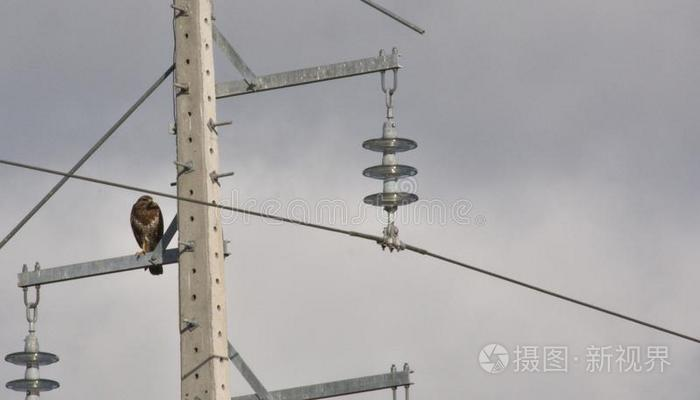insulator: (360, 135, 423, 207), (3, 348, 59, 394)
